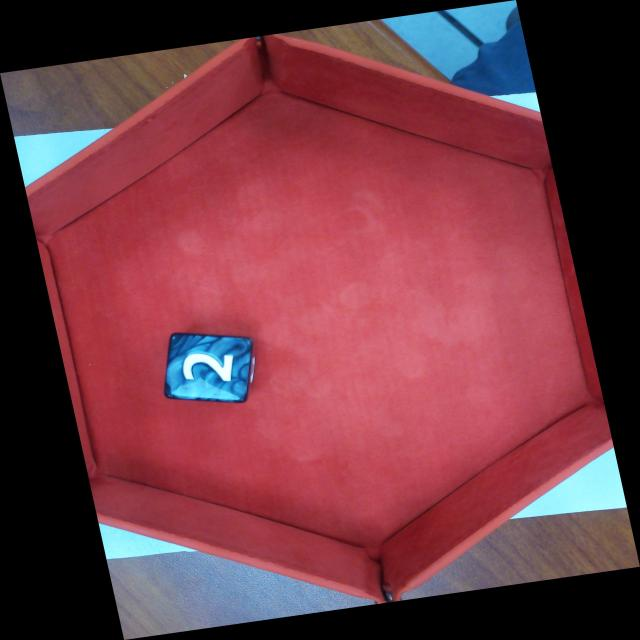dice: (166, 337, 250, 399)
